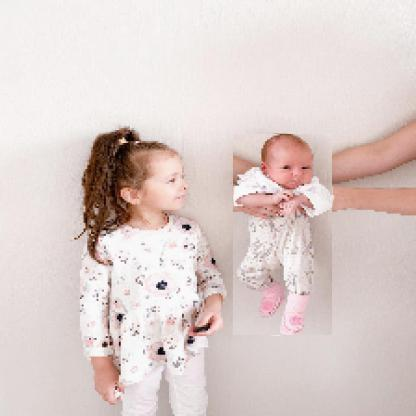child: (77, 127, 230, 415), (234, 135, 334, 337)
